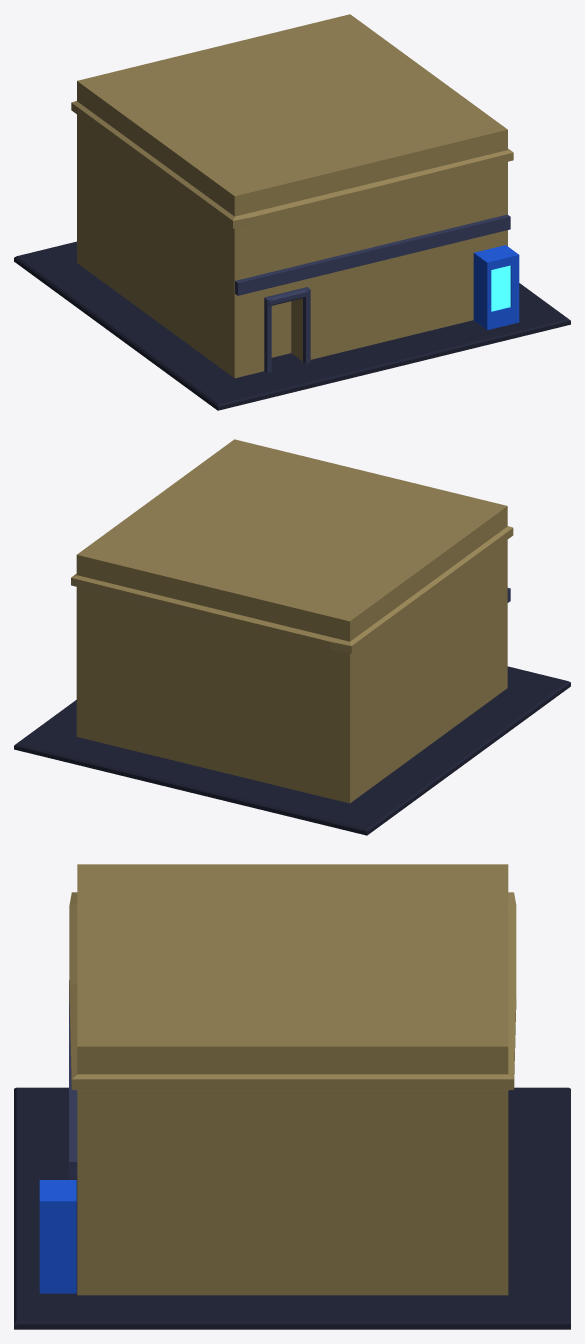
3 renders of one model, top to bottom at view 1: azimuth 30°, elevation 25°; view 2: azimuth 150°, elevation 25°; view 3: azimuth 270°, elevation 25°, orthographic. The views are drawn at different scales.
Visible parts, largest first — view 1: Cube, Cube.001, Cube.006, Cube.007, Cube.008, Cube.004, Cube.005; view 2: Cube, Cube.001; view 3: Cube, Cube.001, Cube.007, Cube.006.
Part boxes in pixels (x1,y1,x2,y2): Cube: (71,14,513,378); Cube.001: (14,241,570,410); Cube.006: (235,214,510,295); Cube.007: (473,245,519,330); Cube.008: (491,265,510,311); Cube.004: (264,299,271,373); Cube.005: (303,289,310,363); Cube: (71,439,513,803); Cube.001: (14,666,570,835); Cube: (69,864,516,1295); Cube.001: (14,1087,570,1329); Cube.007: (39,1180,76,1293); Cube.006: (69,980,77,1179).
Size of what is drawn, in the model's own units: 16.11 by 8.18 by 16.11.
